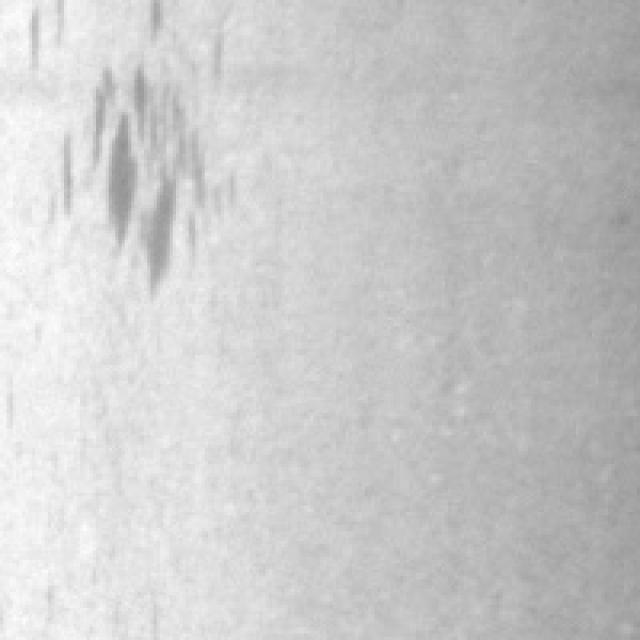inclusion: (42, 35, 227, 291)
